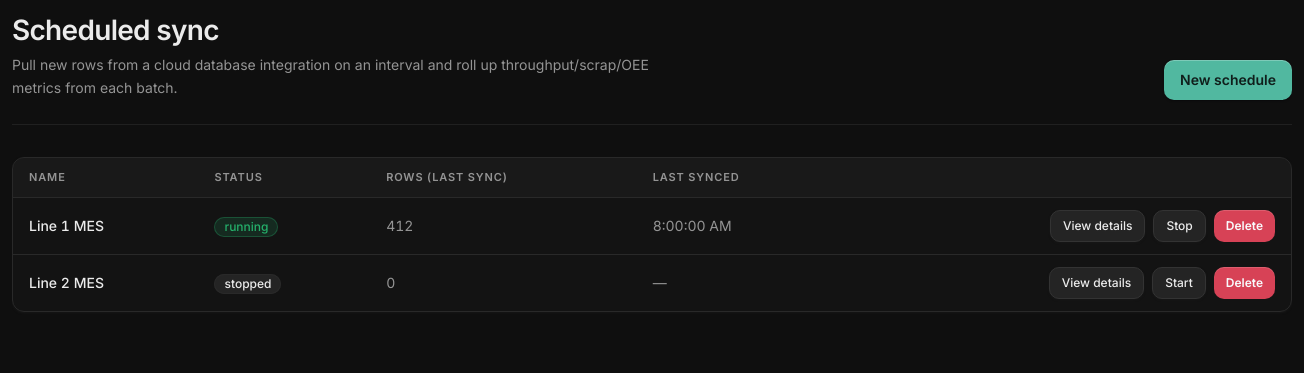
it: Realtime › shows the API's error when stop or start fails
The width and height of the screenshot is (1304, 373).
Expected: the text "Line 1 MES" is shown, [13,198,198,254]
Click the button "Stop".
click(1180, 226)  # box [1153,210,1206,242]
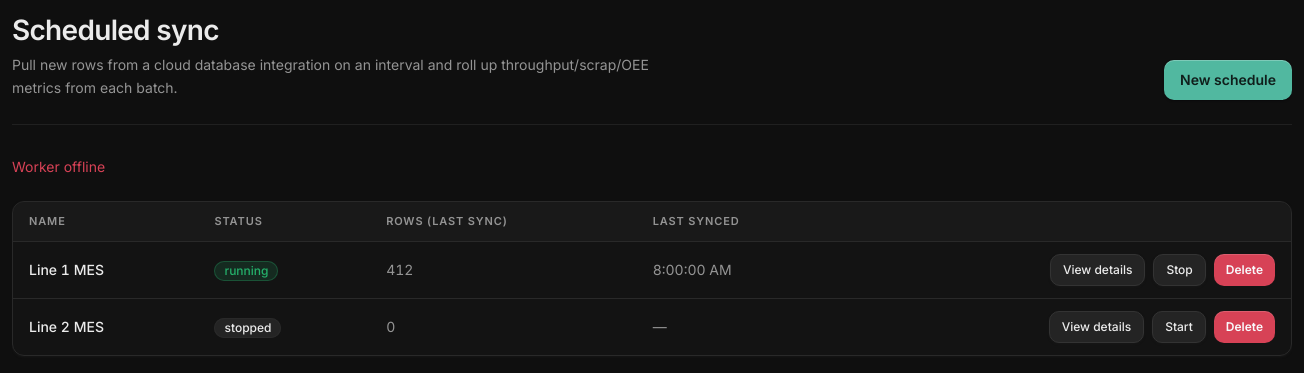
Expected: the text "running" is shown, [214,260,278,280]
Expected: the text "Worker offline" is shown, [12,158,105,174]
Click the button "Start".
click(1179, 327)  # box [1152,311,1206,343]
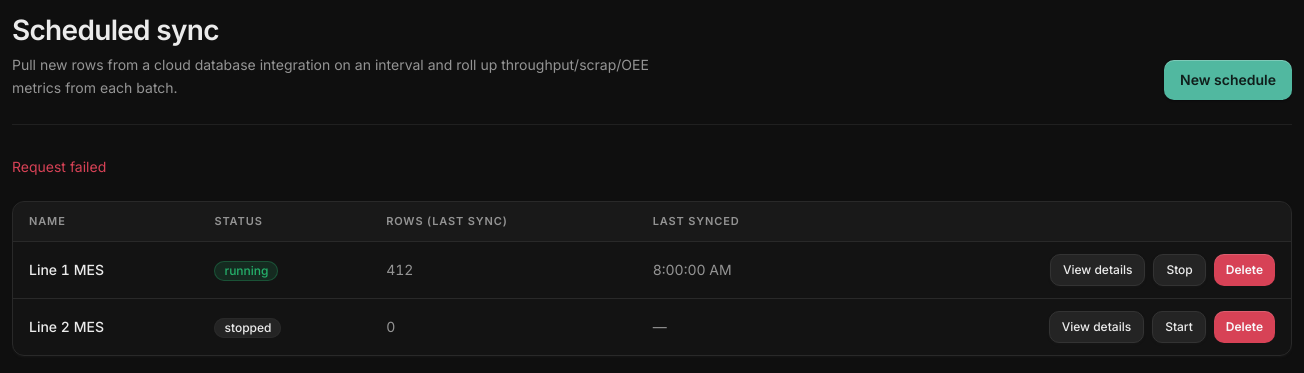
Expected: the text "Request failed" is shown, [12,158,106,174]
